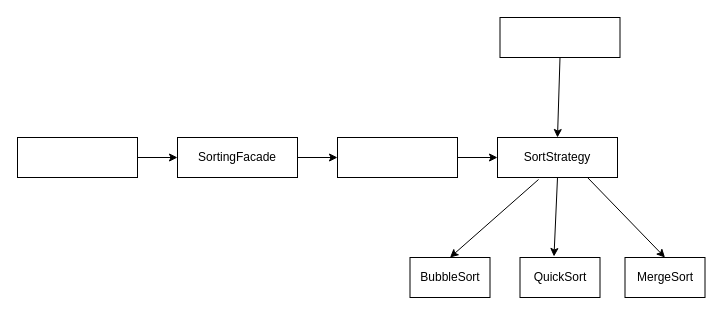
Some shapes in this 723 by 315 pixel diagram are drawn without their labels. Each missing label, with the centre of its shape:
GUI (MainWindow): point 77,157
SortFactory: point 397,157
TimedSortDecorator: point 559,37
